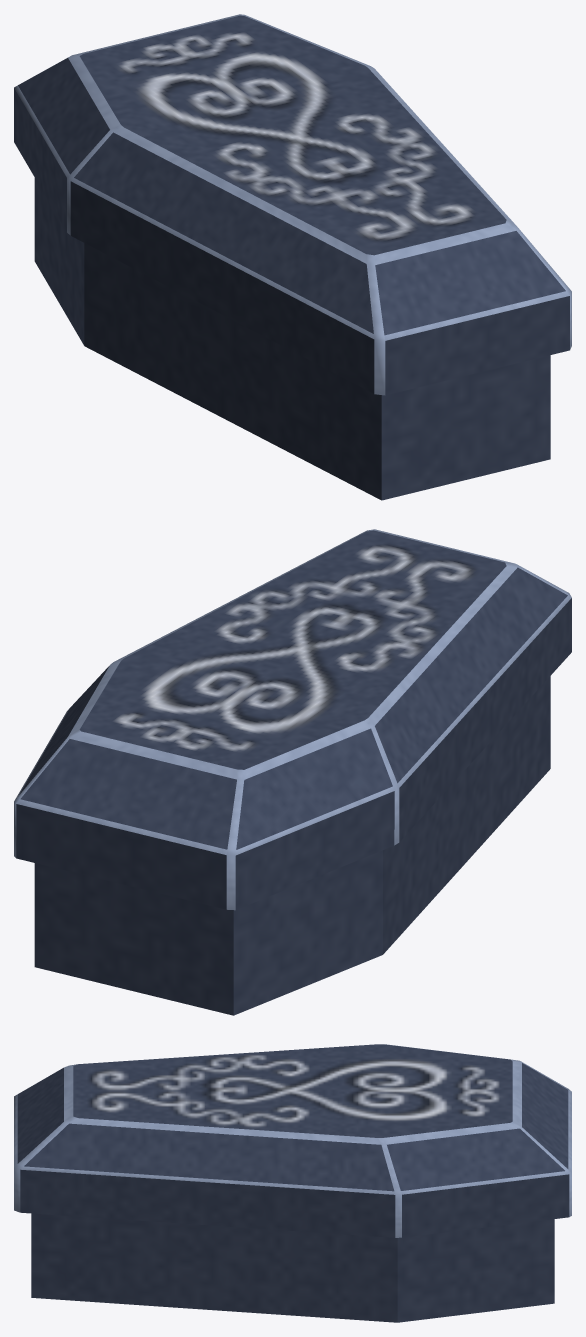
The model's file is Coffin- transversely.fbx.
The picture shows the model from 3 angles, top to bottom: view 1: azimuth 30°, elevation 25°; view 2: azimuth 150°, elevation 25°; view 3: azimuth 270°, elevation 25°; orthographic projection. The views are drawn at different scales.
Visible parts, largest first — view 1: coffin_lid, coffin00; view 2: coffin_lid, coffin00; view 3: coffin_lid, coffin00.
Part boxes in pixels (bbox=[...]): coffin_lid: bbox=[14, 14, 571, 395]; coffin00: bbox=[34, 178, 550, 500]; coffin_lid: bbox=[14, 529, 571, 910]; coffin00: bbox=[34, 676, 550, 1015]; coffin_lid: bbox=[14, 1044, 571, 1237]; coffin00: bbox=[31, 1213, 554, 1322].
Bounding box in the file's own units: 0.9858 × 0.6344 × 1.84.
